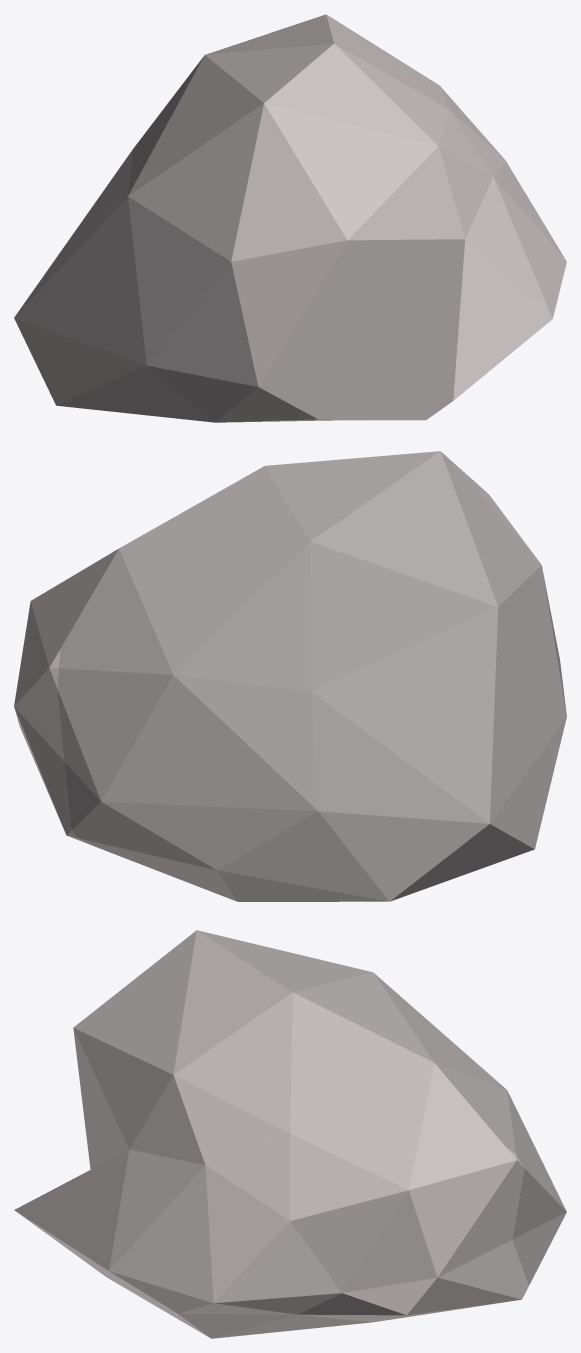
The model's file is rock02.fbx.
3 views of the same model, one above another, from view 1: azimuth 30°, elevation 25°; view 2: azimuth 150°, elevation 25°; view 3: azimuth 270°, elevation 25° (orthographic). The views are drawn at different scales.
Visible parts, largest first — view 1: Icosphere; view 2: Icosphere; view 3: Icosphere.
Boxes of the visible parts, x1,y1,x2,y2 form: Icosphere: (14,14,566,422); Icosphere: (14,451,566,901); Icosphere: (14,930,566,1338).
Bounding box in the file's own units: 163 × 120 × 178.
